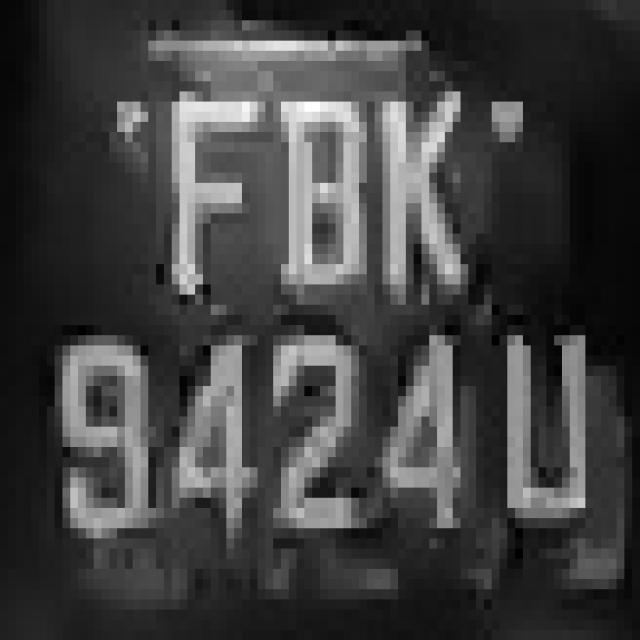2: (266, 274, 382, 559)
4: (140, 315, 266, 548), (367, 335, 476, 559)
9: (39, 325, 156, 569)
B: (257, 71, 367, 305)
F: (156, 71, 265, 315)
K: (375, 61, 484, 305)
U: (492, 294, 608, 558)
